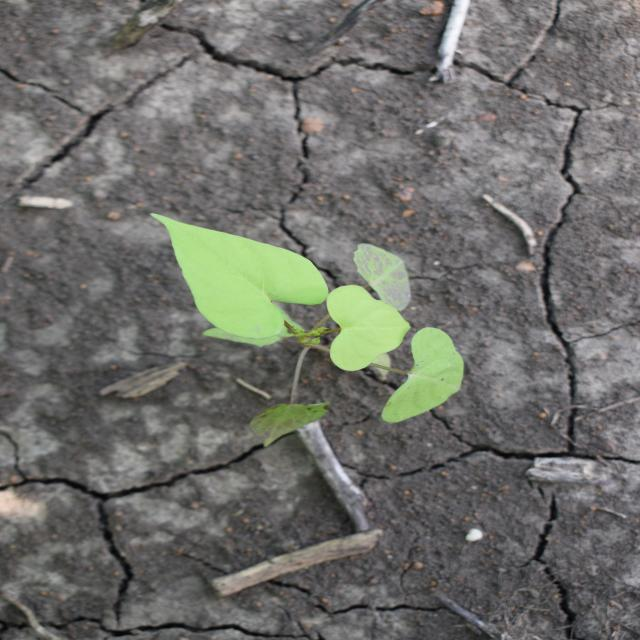MorningGlory: (148, 211, 467, 448)
